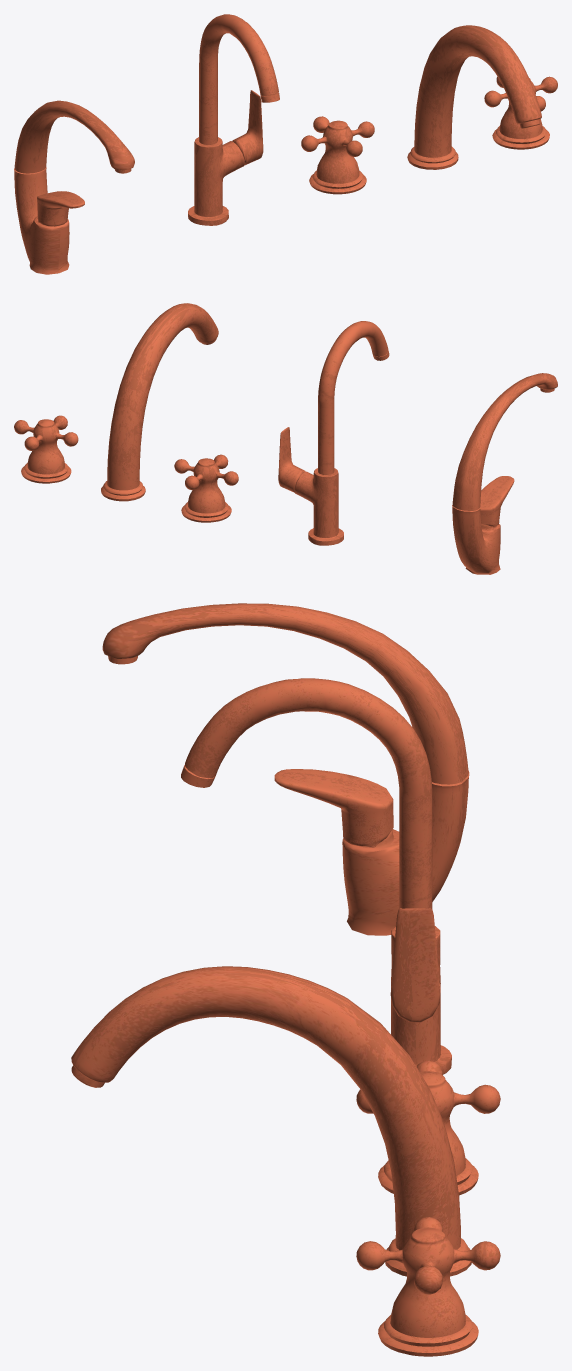
Rendered from obj_minipack_tap_7a8f89.glb.
3 views of the same model, one above another, from view 1: azimuth 30°, elevation 25°; view 2: azimuth 150°, elevation 25°; view 3: azimuth 270°, elevation 25° (orthographic). The views are drawn at different scales.
Parts seen in each view (by area): view 1: obj_minipack_tap_7a8f89; view 2: obj_minipack_tap_7a8f89; view 3: obj_minipack_tap_7a8f89.
Boxes of the visible parts, x1,y1,x2,y2 form: obj_minipack_tap_7a8f89: (14, 14, 557, 274); obj_minipack_tap_7a8f89: (14, 303, 557, 574); obj_minipack_tap_7a8f89: (71, 603, 500, 1356).
Size of the model in its own units: 0.7661 by 0.3 by 0.3024.
Materials: 1 (1 with a texture image).
